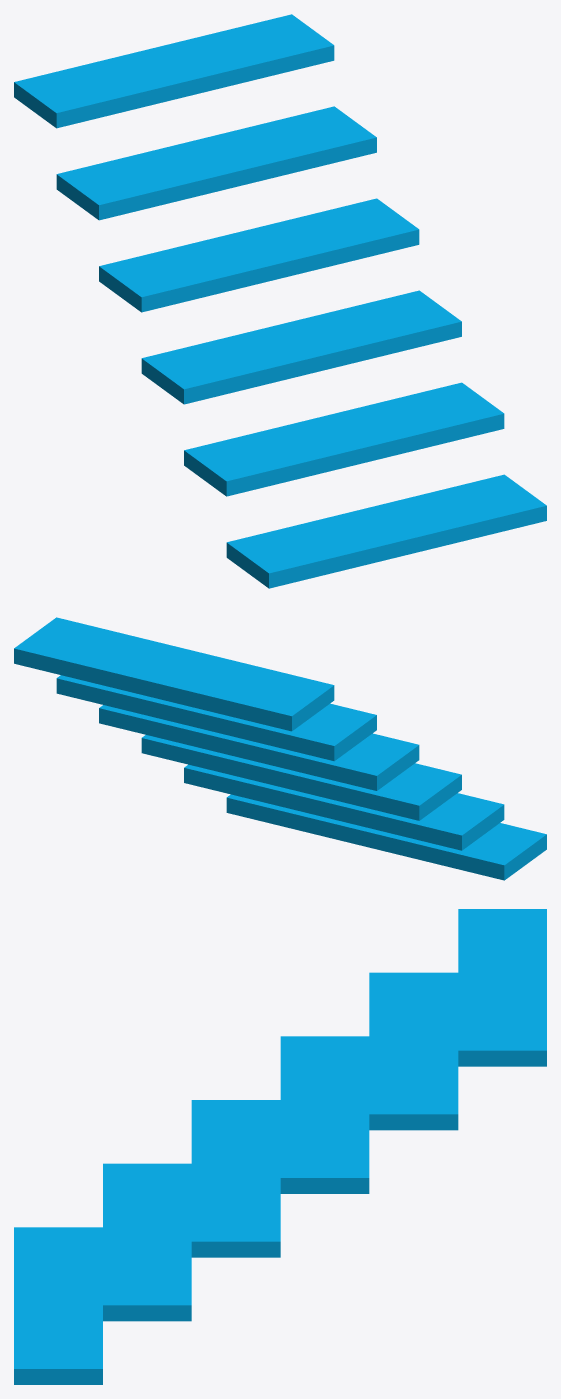
Rendered from Stairs_081.glb.
The picture shows the model from 3 angles, top to bottom: view 1: azimuth 30°, elevation 25°; view 2: azimuth 150°, elevation 25°; view 3: azimuth 270°, elevation 25°; orthographic projection. The views are drawn at different scales.
Parts seen in each view (by area): view 1: Stairs_081; view 2: Stairs_081; view 3: Stairs_081.
Boxes of the visible parts, x1,y1,x2,y2 form: Stairs_081: (14,14,546,588); Stairs_081: (14,617,546,880); Stairs_081: (14,909,546,1384).
Size of the model in its own units: 1.6 by 1.76 by 2.54.
Materials: 1 (1 with a texture image).
